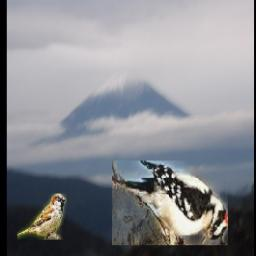Sparrow: (16, 194, 66, 241)
Woodpecker: (112, 161, 228, 245)
